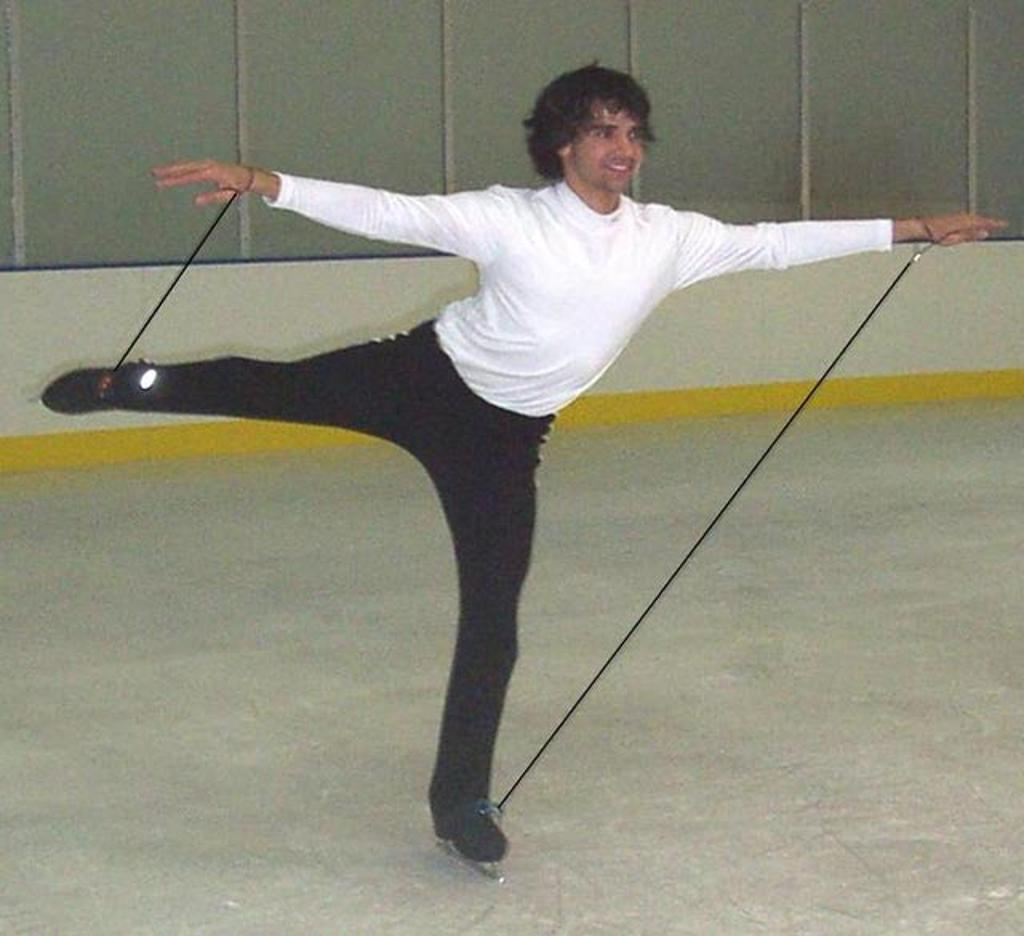face: (585, 101, 639, 189)
